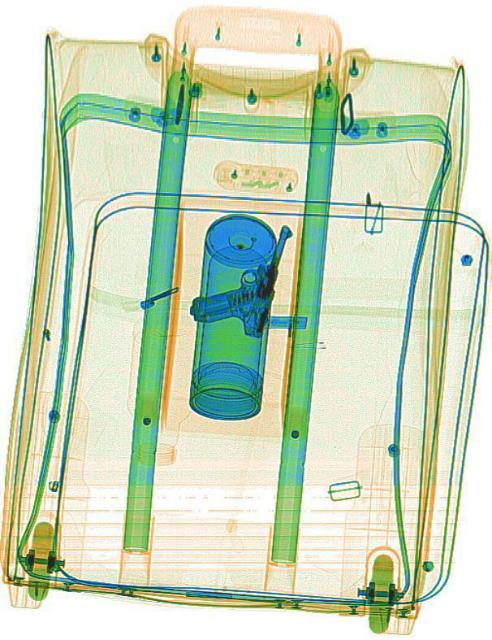Gun: (187, 201, 289, 341)
